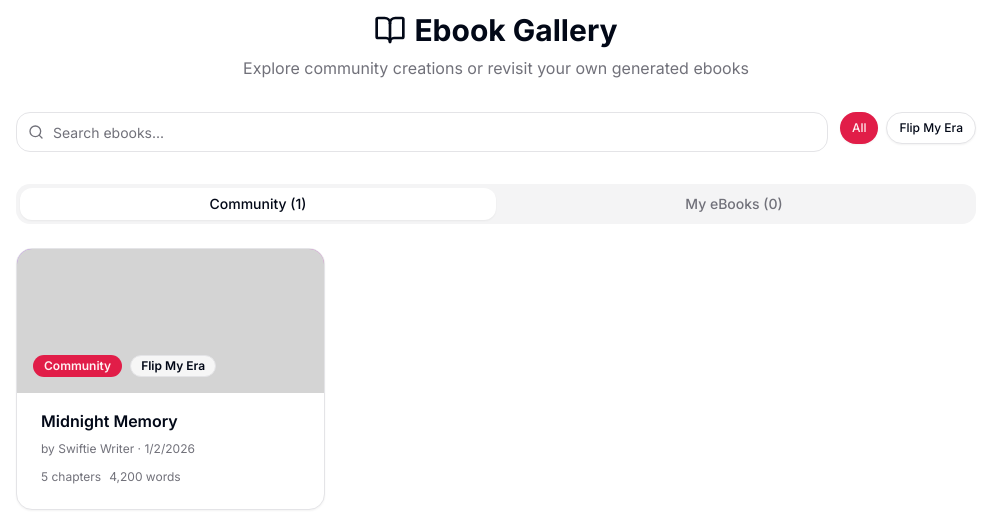
Test: Gallery › does not request the private library while signed out
The image size is (993, 527).
What coordinates should you click on to do the following:
click the tab "My eBooks (0)"
I would click on:
 (734, 204)
Its box is [496, 188, 972, 220].
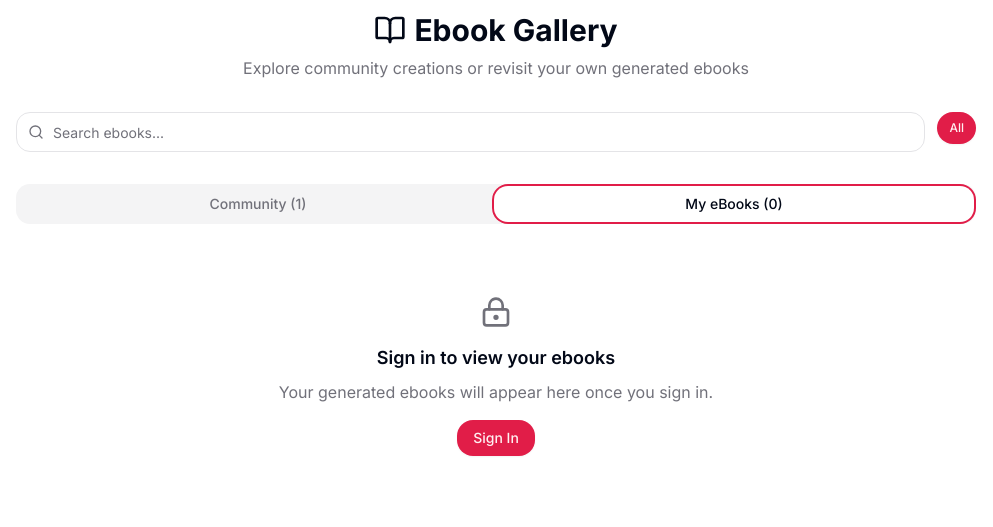
expect the heading "Sign in to view your ebooks" is shown: met, box [377, 347, 615, 368]
